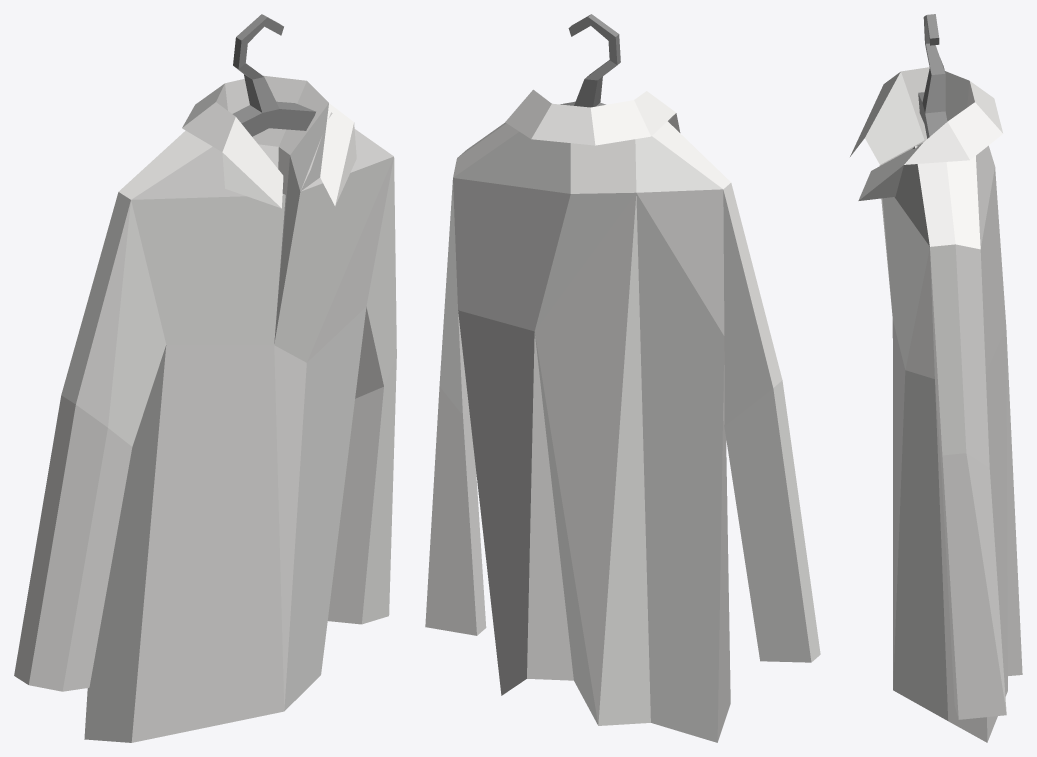
File: Cloth_2.fbx
3 views of the same model, side by side, from view 1: azimuth 30°, elevation 25°; view 2: azimuth 150°, elevation 25°; view 3: azimuth 270°, elevation 25° (orthographic). The views are drawn at different scales.
Parts seen in each view (by area): view 1: Cloth_2; view 2: Cloth_2; view 3: Cloth_2.
Boxes of the visible parts, x1,y1,x2,y2 form: Cloth_2: (14,14,396,742); Cloth_2: (425,14,820,742); Cloth_2: (850,14,1022,742).
Bounding box in the file's own units: 67.28 × 26.85 × 119.
